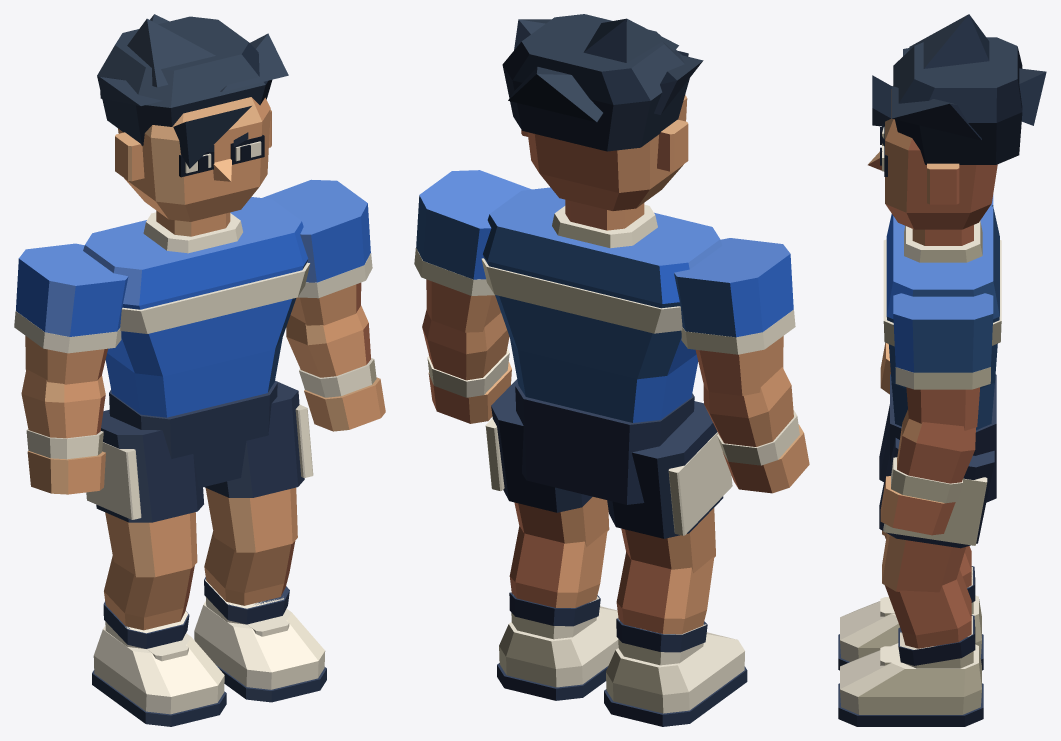
Rendered from nova-preview.glb.
3 renders of one model, left to right at view 1: azimuth 30°, elevation 25°; view 2: azimuth 150°, elevation 25°; view 3: azimuth 270°, elevation 25°, orthographic. The views are drawn at different scales.
Visible parts, largest first — view 1: Jersey, HairMass, Head, Sleeve.R, ShortsWaist, Boot.R, Boot.L, Sleeve.L, Shorts.R, Shorts.L, ChestBand, Thigh.R (+26 smaller); view 2: Jersey, HairMass, ShortsWaist, Sleeve.R, Head, Sleeve.L, Boot.R, Boot.L, Calf.R, Calf.L, Shorts.R, ChestBand (+27 smaller); view 3: HairMass, Jersey, Sleeve.L, Boot.L, Head, Calf.L, Forearm.L, Thigh.L, Boot.R, Hair.Crest, UpperArm.L, Hand.L (+19 smaller).
Part boxes in pixels (x1,y1,x2,y2): Jersey: (83, 197, 308, 417); HairMass: (97, 16, 272, 145); Head: (118, 97, 270, 221); Sleeve.R: (16, 243, 128, 336); ShortsWaist: (109, 381, 277, 487); Boot.R: (93, 625, 224, 714); Boot.L: (194, 601, 325, 689); Sleeve.L: (262, 179, 370, 282); Shorts.R: (96, 409, 203, 522); Shorts.L: (204, 380, 304, 497); ChestBand: (120, 262, 310, 333); Thigh.R: (105, 512, 197, 577); Jersey: (483, 187, 722, 422); HairMass: (502, 14, 689, 151); ShortsWaist: (515, 384, 694, 504); Sleeve.R: (674, 238, 793, 337); Head: (527, 95, 687, 210); Sleeve.L: (416, 170, 531, 279); Boot.R: (606, 632, 744, 713); Boot.L: (499, 606, 618, 687); Calf.R: (616, 552, 714, 634); Calf.L: (509, 526, 607, 607); Shorts.R: (607, 401, 723, 538); ChestBand: (481, 258, 682, 333); HairMass: (893, 37, 1022, 164); Jersey: (886, 205, 999, 430); Sleeve.L: (893, 293, 993, 372); Boot.L: (840, 643, 981, 714); Head: (885, 89, 997, 229); Calf.L: (884, 569, 971, 648); Forearm.L: (897, 410, 975, 483); Thigh.L: (882, 533, 965, 592); Boot.R: (840, 595, 981, 661); Hair.Crest: (909, 14, 989, 68); UpperArm.L: (906, 387, 979, 430); Hand.L: (880, 476, 955, 535).
Bounding box in the file's own units: 1.2 × 2.23 × 0.645.
